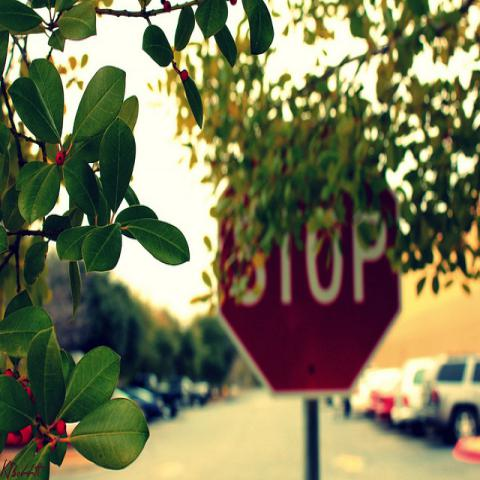car: (351, 369, 402, 412), (163, 377, 210, 409), (128, 387, 170, 418)
truck: (415, 355, 480, 446), (391, 356, 443, 436), (350, 368, 404, 418), (131, 372, 178, 419)
